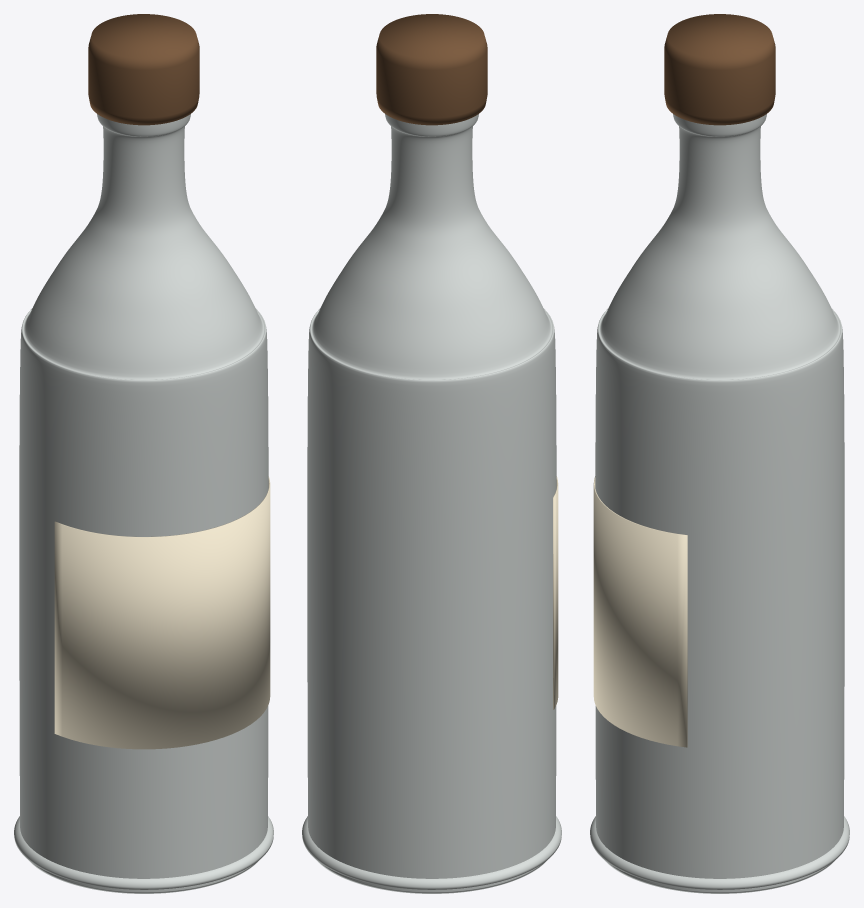
Rendered from alcool.fbx.
The picture shows the model from 3 angles, left to right: view 1: azimuth 30°, elevation 25°; view 2: azimuth 150°, elevation 25°; view 3: azimuth 270°, elevation 25°; orthographic projection.
Visible parts, largest first — view 1: Bottiglia, Etichetta, Tappo; view 2: Bottiglia, Tappo, Etichetta; view 3: Bottiglia, Etichetta, Tappo.
Boxes of the visible parts, bbox=[...] form: Bottiglia: bbox=[14, 114, 273, 893]; Etichetta: bbox=[54, 476, 270, 749]; Tappo: bbox=[88, 14, 199, 125]; Bottiglia: bbox=[302, 114, 561, 893]; Tappo: bbox=[376, 14, 487, 125]; Etichetta: bbox=[553, 476, 558, 709]; Bottiglia: bbox=[590, 114, 849, 893]; Etichetta: bbox=[593, 476, 687, 747]; Tappo: bbox=[664, 14, 775, 125].
Size of the model in its own units: 8.89 by 30.66 by 8.89.
